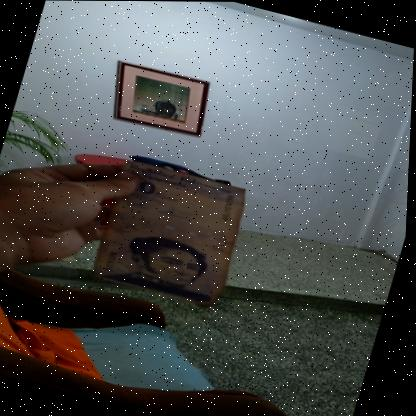ten-front-vef: (90, 158, 252, 310)
